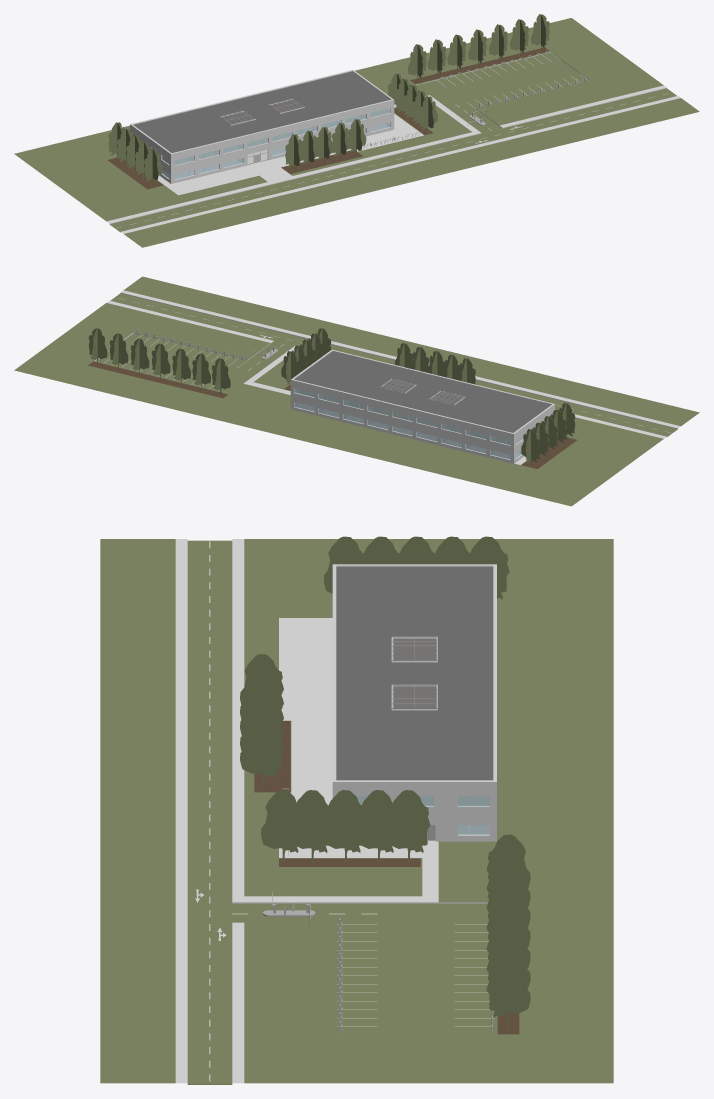
The picture shows the model from 3 angles, top to bottom: view 1: azimuth 30°, elevation 25°; view 2: azimuth 150°, elevation 25°; view 3: azimuth 270°, elevation 25°; orthographic projection. The views are drawn at different scales.
Parts seen in each view (by area): view 1: 3A8hY1UoD7JhnLeZeDyU4B, 3A8hY1UoD7JhnLeZeDyU2J, 0CWDnGbzX4Sf1BesT9Tj4o, 3A8hY1UoD7JhnLeZeDyUs3, 12bPoIwbv0tBGfPfnvCUc2, 3A8hY1UoD7JhnLeZeDyQc9, 3A8hY1UoD7JhnLeZeDyU2I, 0P898JVsX6VQGfAj0lC8$w, 12bPoIwbv0tBGfPfnvCUau, 0P898JVsX6VQGfAj0lC8w9, 0P898JVsX6VQGfAj0lC8zf, 0P898JVsX6VQGfAj0lC8wV (+12 smaller); view 2: 3A8hY1UoD7JhnLeZeDyU4B, 0CWDnGbzX4Sf1BesT9Tj4o, 3A8hY1UoD7JhnLeZeDyU2J, 12bPoIwbv0tBGfPfnvCUYu, 3A8hY1UoD7JhnLeZeDyUs3, 3A8hY1UoD7JhnLeZeDyU2I, 0P898JVsX6VQGfAj0lC8$w, 12bPoIwbv0tBGfPfnvCUau, 3A8hY1UoD7JhnLeZeDyQc9, 3A8hY1UoD7JhnLeZeDyQto, 0P898JVsX6VQGfAj0lC8zP, 0P898JVsX6VQGfAj0lC8yl (+7 smaller); view 3: 3A8hY1UoD7JhnLeZeDyU4B, 3A8hY1UoD7JhnLeZeDyU2J, 0CWDnGbzX4Sf1BesT9Tj4o, 3A8hY1UoD7JhnLeZeDyUs3, 12bPoIwbv0tBGfPfnvCUW2, 3A8hY1UoD7JhnLeZeDyQc9, 0P898JVsX6VQGfAj0lC8w9, 3A8hY1UoD7JhnLeZeDyQpf, 3A8hY1UoD7JhnLeZeDyQqa, 3A8hY1UoD7JhnLeZeDyQqC, 3A8hY1UoD7JhnLeZeDyQqq, 3A8hY1UoD7JhnLeZeDyQq4 (+9 smaller).
Boxes of the visible parts, box(x1,y1,x2,y2) form: 3A8hY1UoD7JhnLeZeDyU4B: box(14, 18, 699, 247); 3A8hY1UoD7JhnLeZeDyU2J: box(109, 52, 676, 232); 0CWDnGbzX4Sf1BesT9Tj4o: box(133, 71, 390, 152); 3A8hY1UoD7JhnLeZeDyUs3: box(106, 85, 680, 233); 12bPoIwbv0tBGfPfnvCUc2: box(170, 99, 393, 183); 3A8hY1UoD7JhnLeZeDyQc9: box(107, 108, 433, 189); 3A8hY1UoD7JhnLeZeDyU2I: box(109, 52, 666, 224); 0P898JVsX6VQGfAj0lC8$w: box(410, 47, 549, 84); 12bPoIwbv0tBGfPfnvCUau: box(130, 124, 170, 183); 0P898JVsX6VQGfAj0lC8w9: box(531, 14, 549, 54); 0P898JVsX6VQGfAj0lC8zf: box(489, 24, 507, 64); 0P898JVsX6VQGfAj0lC8wV: box(510, 19, 528, 59); 3A8hY1UoD7JhnLeZeDyU4B: box(14, 276, 699, 506); 0CWDnGbzX4Sf1BesT9Tj4o: box(294, 351, 551, 432); 3A8hY1UoD7JhnLeZeDyU2J: box(95, 293, 677, 436); 12bPoIwbv0tBGfPfnvCUYu: box(290, 379, 513, 463); 3A8hY1UoD7JhnLeZeDyUs3: box(106, 290, 680, 464); 3A8hY1UoD7JhnLeZeDyU2I: box(94, 292, 677, 437); 0P898JVsX6VQGfAj0lC8$w: box(88, 361, 228, 398); 12bPoIwbv0tBGfPfnvCUau: box(513, 404, 554, 463); 3A8hY1UoD7JhnLeZeDyQc9: box(284, 384, 576, 468); 3A8hY1UoD7JhnLeZeDyQto: box(521, 429, 539, 465); 0P898JVsX6VQGfAj0lC8zP: box(192, 353, 210, 390); 0P898JVsX6VQGfAj0lC8yl: box(212, 358, 230, 394); 3A8hY1UoD7JhnLeZeDyU4B: box(100, 539, 613, 1083); 3A8hY1UoD7JhnLeZeDyU2J: box(187, 540, 494, 1084); 0CWDnGbzX4Sf1BesT9Tj4o: box(336, 567, 493, 780); 3A8hY1UoD7JhnLeZeDyUs3: box(175, 539, 438, 1083); 12bPoIwbv0tBGfPfnvCUW2: box(332, 781, 494, 841); 3A8hY1UoD7JhnLeZeDyQc9: box(254, 721, 420, 866); 0P898JVsX6VQGfAj0lC8w9: box(486, 954, 530, 1029); 3A8hY1UoD7JhnLeZeDyQpf: box(240, 715, 283, 787); 3A8hY1UoD7JhnLeZeDyQqa: box(261, 790, 304, 862); 3A8hY1UoD7JhnLeZeDyQqC: box(356, 790, 400, 862); 3A8hY1UoD7JhnLeZeDyQqq: box(323, 790, 366, 862); 3A8hY1UoD7JhnLeZeDyQq4: box(386, 790, 430, 862).
Bounding box in the file's own units: 159 × 13.82 × 63.53.
